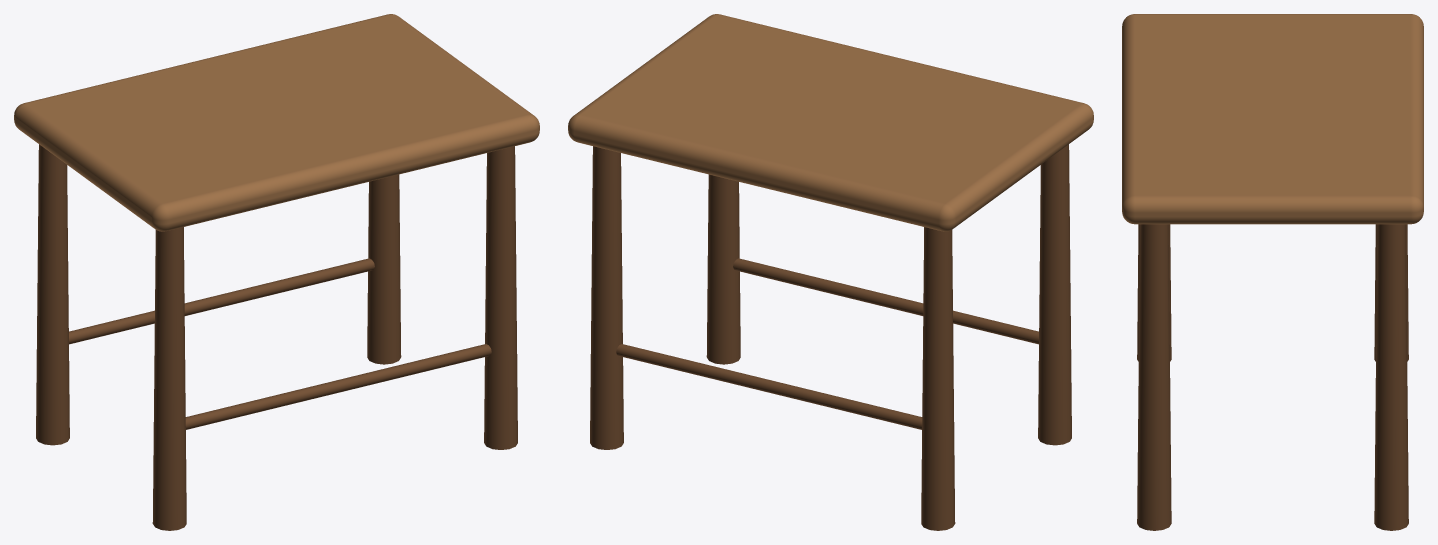
File: table.glb
The picture shows the model from 3 angles, left to right: view 1: azimuth 30°, elevation 25°; view 2: azimuth 150°, elevation 25°; view 3: azimuth 270°, elevation 25°; orthographic projection.
Parts seen in each view (by area): view 1: prop-table; view 2: prop-table; view 3: prop-table.
Boxes of the visible parts, box(x1,y1,x2,y2) form: prop-table: box(14, 14, 539, 530); prop-table: box(568, 14, 1093, 530); prop-table: box(1122, 14, 1423, 530).
Bounding box in the file's own units: 0.42 × 0.344 × 0.28.
